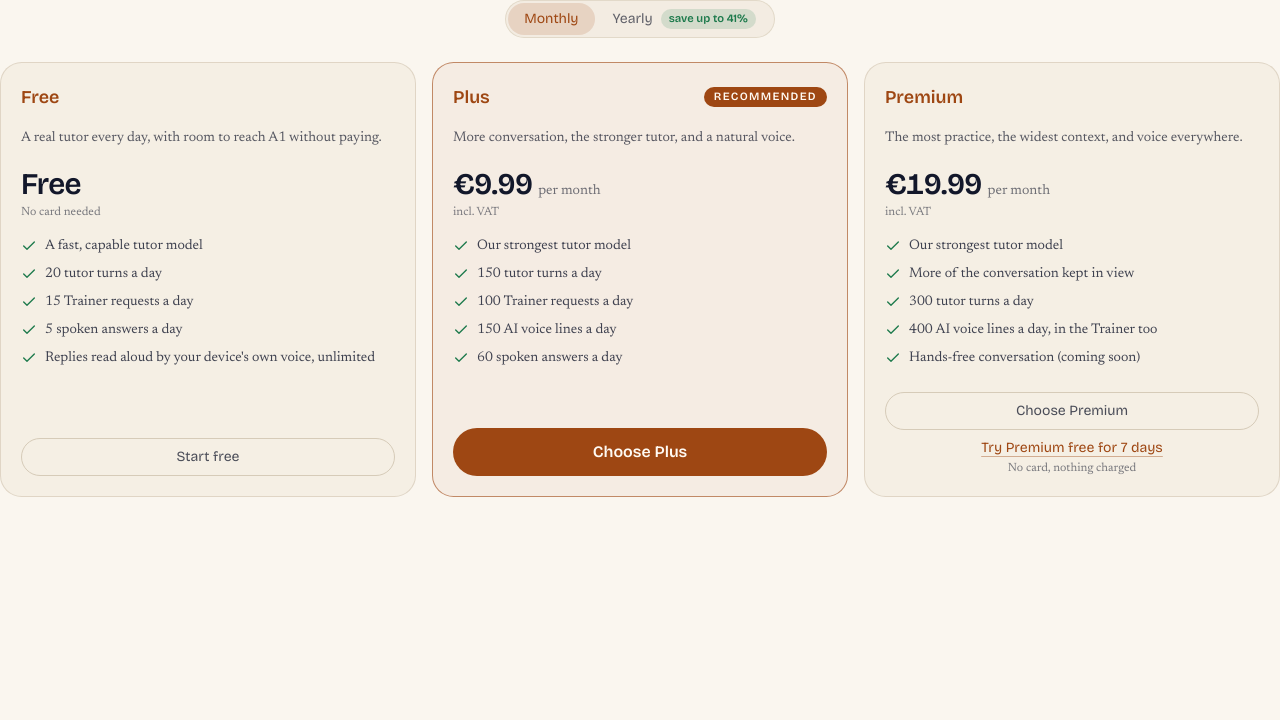
it: the interval › switches every card to yearly: the yearly total first, the month beside it
Click the radio button labelled "Yearly save up to 41%" at coordinates (684, 19), box 612,9 -> 756,29
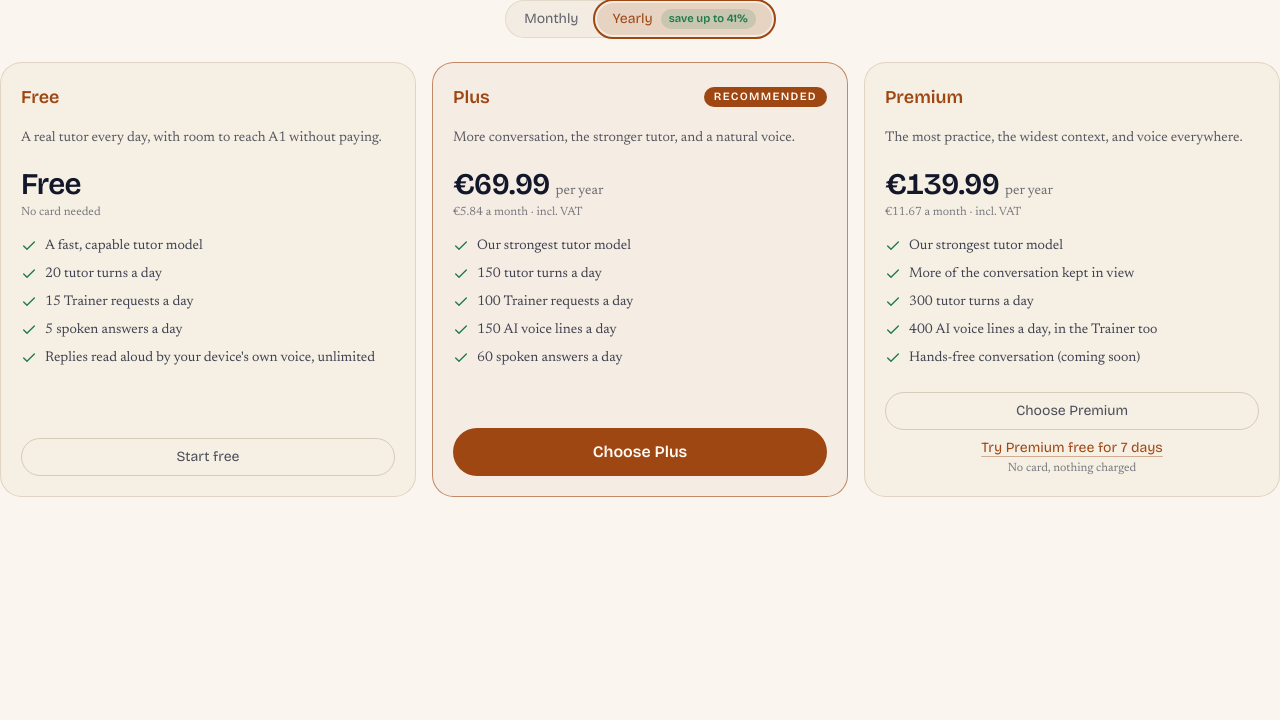
Result: the text "€69.99" is shown at 453,166 -> 550,202
Result: the text "per year" next to "€69.99" is shown at 556,184 -> 604,198
Result: the text "€5.84 a month · incl. VAT" is shown at 453,206 -> 583,218
